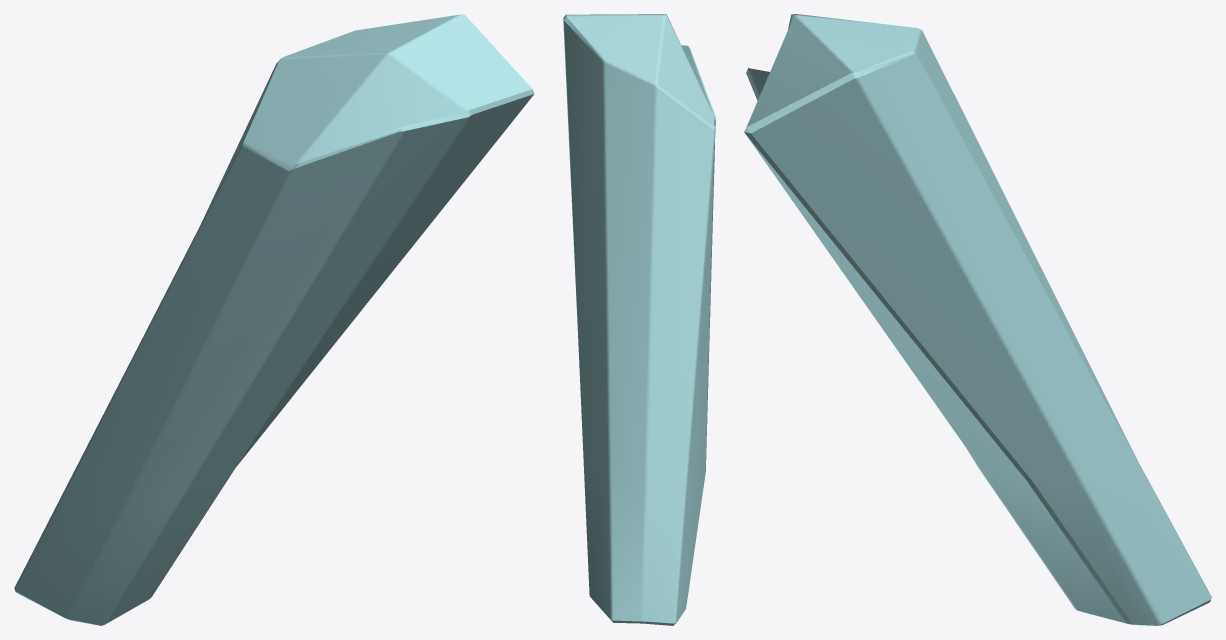
File: Ice_05.fbx
3 renders of one model, left to right at view 1: azimuth 30°, elevation 25°; view 2: azimuth 150°, elevation 25°; view 3: azimuth 270°, elevation 25°, orthographic. The views are drawn at different scales.
Parts seen in each view (by area): view 1: Ice_06; view 2: Ice_06; view 3: Ice_06.
Part boxes in pixels (x1,y1,x2,y2): Ice_06: [14, 14, 534, 625]; Ice_06: [563, 14, 715, 625]; Ice_06: [744, 14, 1211, 625].
Size of the model in its own units: 197 by 376 by 240.
